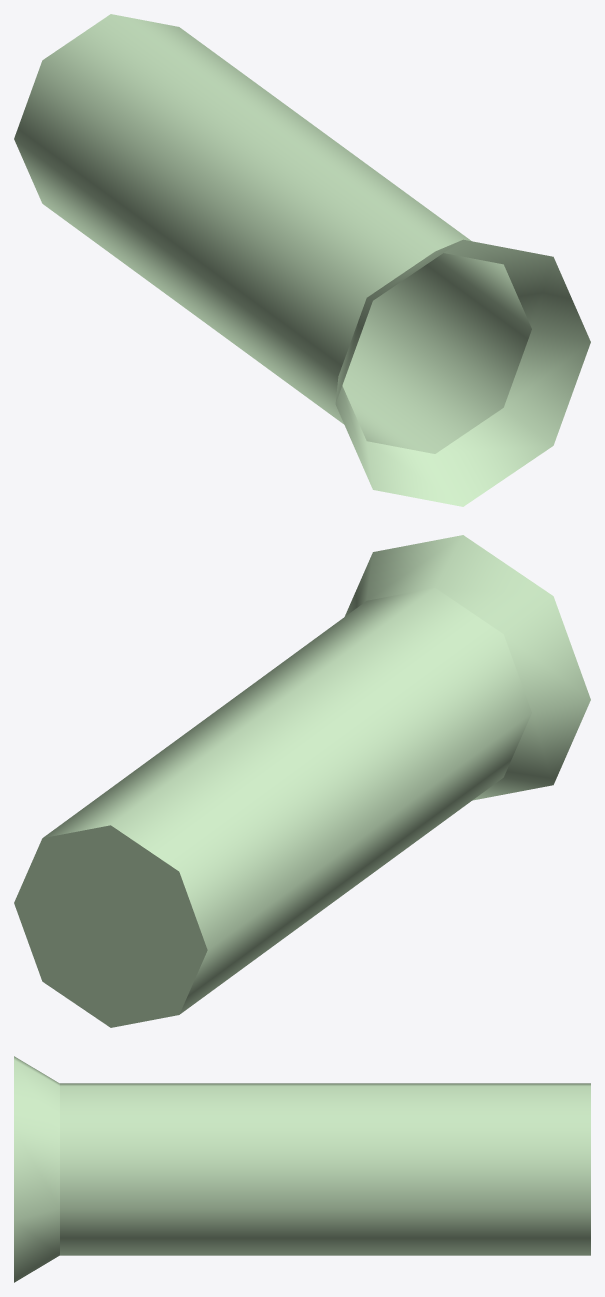
3 renders of one model, top to bottom at view 1: azimuth 30°, elevation 25°; view 2: azimuth 150°, elevation 25°; view 3: azimuth 270°, elevation 25°, orthographic. The views are drawn at different scales.
Parts seen in each view (by area): view 1: Object108; view 2: Object108; view 3: Object108.
Part boxes in pixels (box(x1,y1,x2,y2)): Object108: box(14, 14, 590, 506); Object108: box(14, 535, 590, 1027); Object108: box(14, 1056, 590, 1282).
Size of the model in its own units: 2583 by 2583 by 6173.
